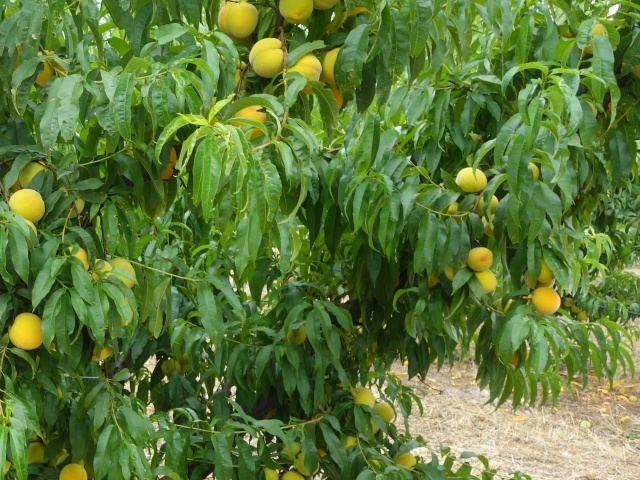peach: (224, 98, 272, 141), (250, 33, 291, 81), (7, 308, 48, 353), (214, 1, 260, 40), (6, 185, 47, 227), (284, 51, 325, 92), (12, 153, 52, 194), (451, 162, 490, 198), (105, 253, 140, 292), (528, 283, 564, 317), (275, 1, 316, 30), (527, 260, 559, 294), (469, 264, 501, 296), (467, 242, 498, 275), (289, 449, 325, 477), (348, 383, 379, 413), (369, 396, 399, 426), (473, 189, 502, 218), (391, 448, 421, 473), (157, 355, 183, 381), (56, 461, 91, 479), (278, 465, 306, 479)
